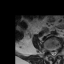CCS_normal: (52, 48, 54, 58)
LFS_normal: (56, 47, 58, 54)
LLS_normal: (54, 48, 56, 56)
RFS_stenosis: (48, 47, 50, 55)
RLS_normal: (50, 48, 52, 56)
